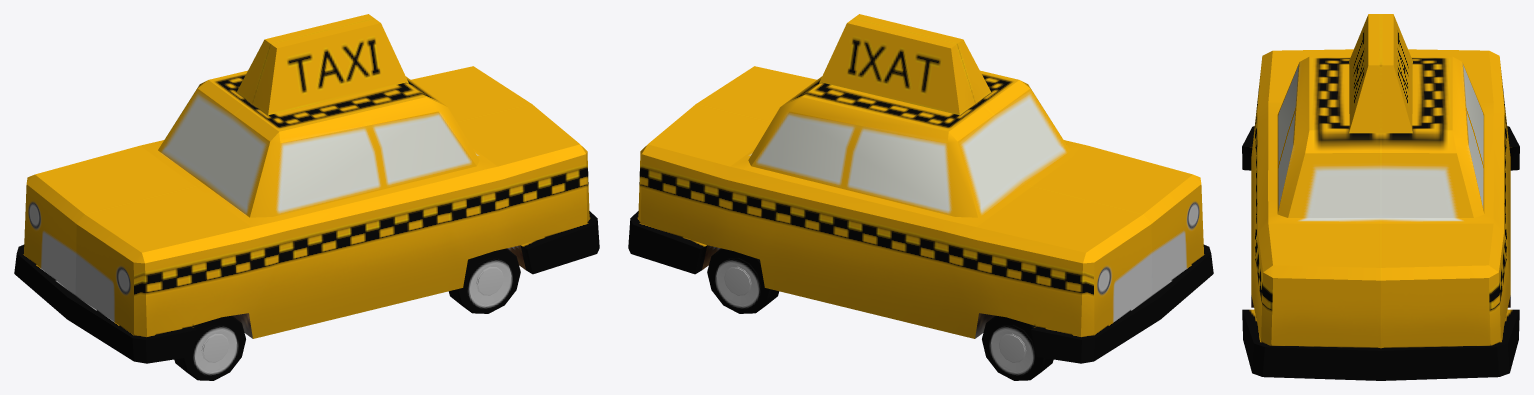
Rendered from mobil_taxi.fbx.
3 renders of one model, left to right at view 1: azimuth 30°, elevation 25°; view 2: azimuth 150°, elevation 25°; view 3: azimuth 270°, elevation 25°, orthographic.
Parts seen in each view (by area): view 1: taxi; view 2: taxi; view 3: taxi.
Boxes of the visible parts, x1,y1,x2,y2 form: taxi: [14, 14, 599, 380]; taxi: [628, 14, 1213, 380]; taxi: [1242, 14, 1519, 380].
Bounding box in the file's own units: 34.94 × 18.49 × 17.24.
